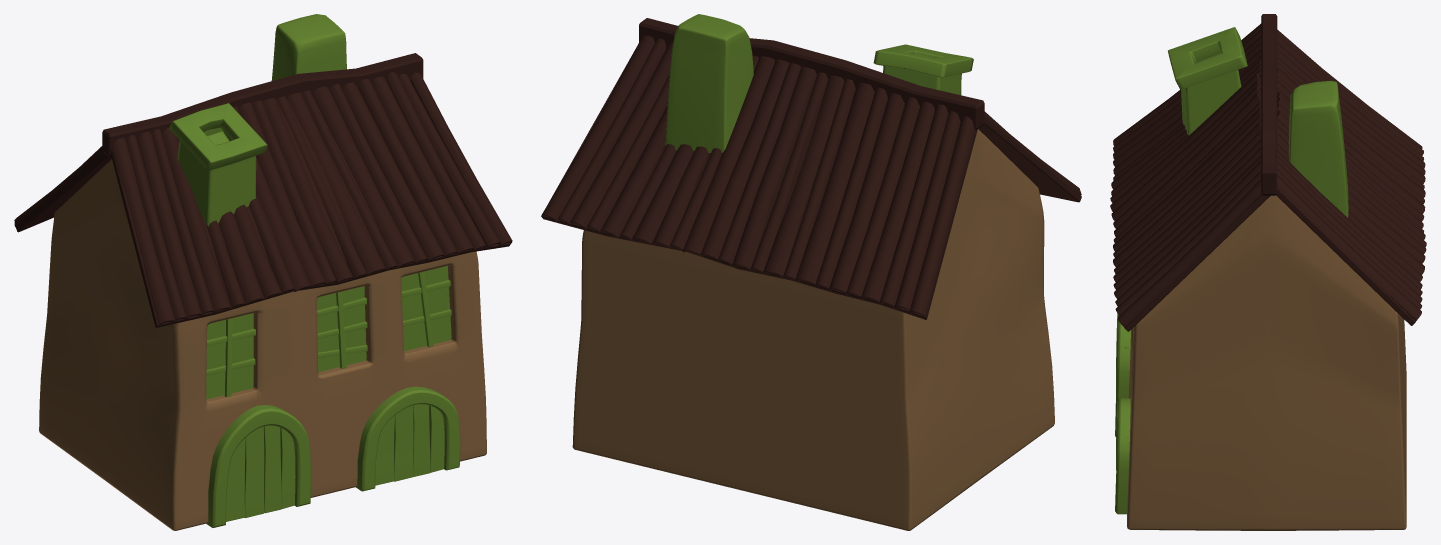
File: P_HouseFive.obj
3 renders of one model, left to right at view 1: azimuth 30°, elevation 25°; view 2: azimuth 150°, elevation 25°; view 3: azimuth 270°, elevation 25°, orthographic. The views are drawn at different scales.
Parts seen in each view (by area): view 1: P_HouseFive; view 2: P_HouseFive; view 3: P_HouseFive.
Boxes of the visible parts, box(x1,y1,x2,y2) form: P_HouseFive: box(14, 14, 512, 530); P_HouseFive: box(541, 14, 1081, 530); P_HouseFive: box(1110, 14, 1426, 530).
Bounding box in the file's own units: 3.32 × 3.42 × 2.46.
